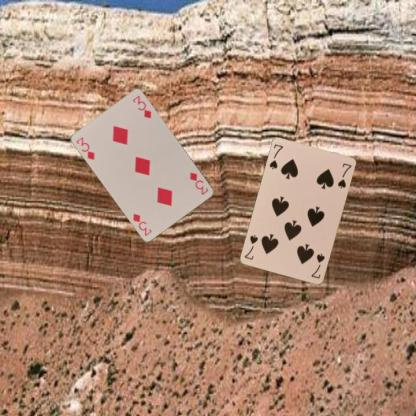3d: (187, 170, 210, 196), (74, 135, 96, 161)
7s: (308, 250, 326, 280), (267, 142, 284, 171)
